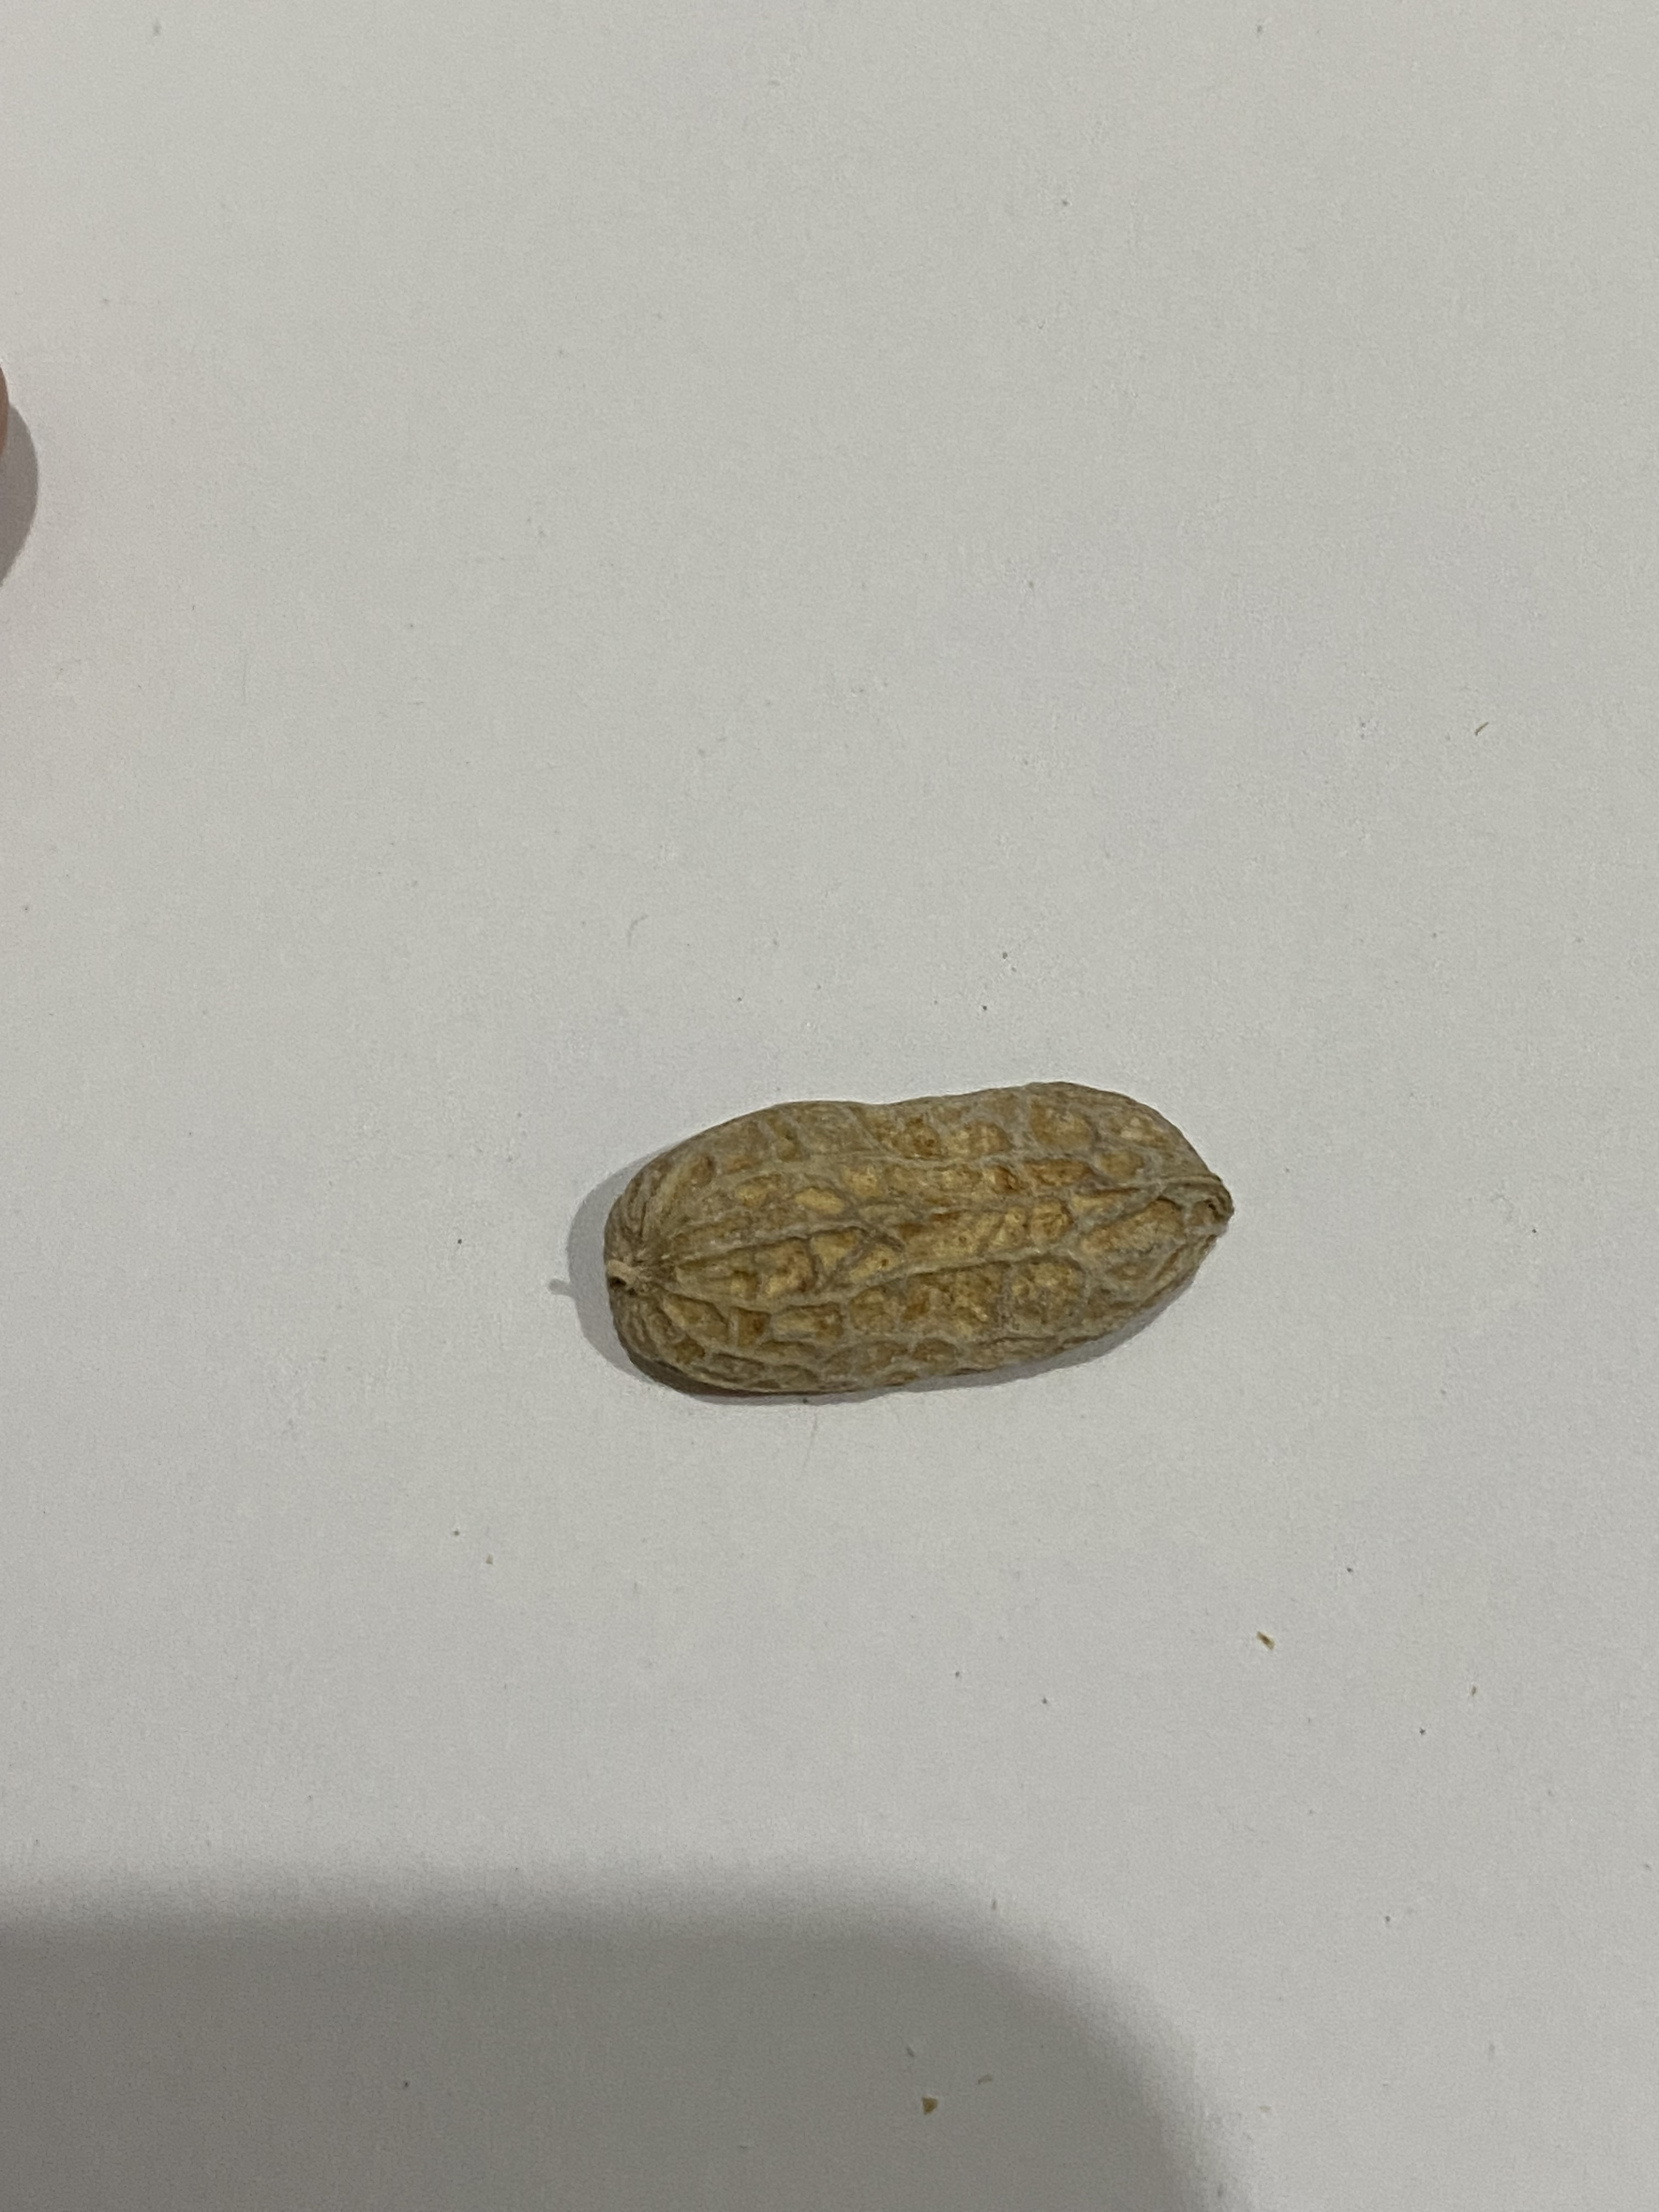kacang2: (584, 1068, 1279, 1400)
